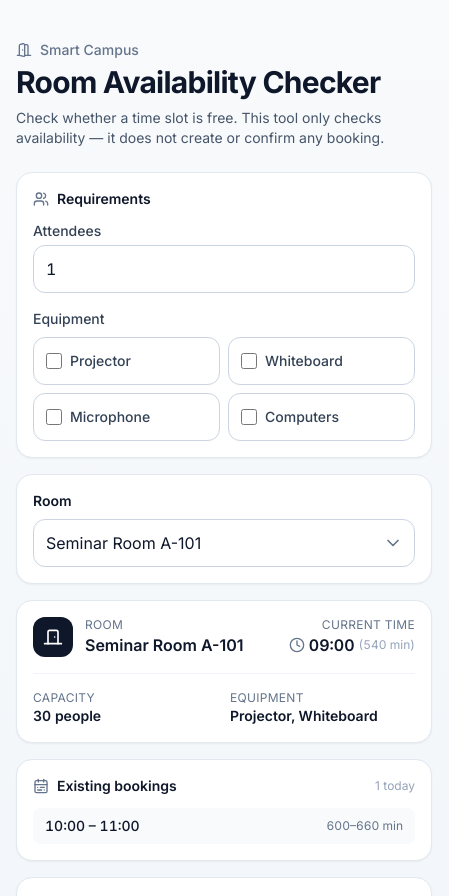
Test: room filtering in the app › shows the empty-state message and disables Check when no room matches (F4)
This screenshot has width=449, height=896.
Replace the text in the number field labelled "Attendees" with "200" at (224, 269), box 33,245 -> 415,293
(page scrolled)
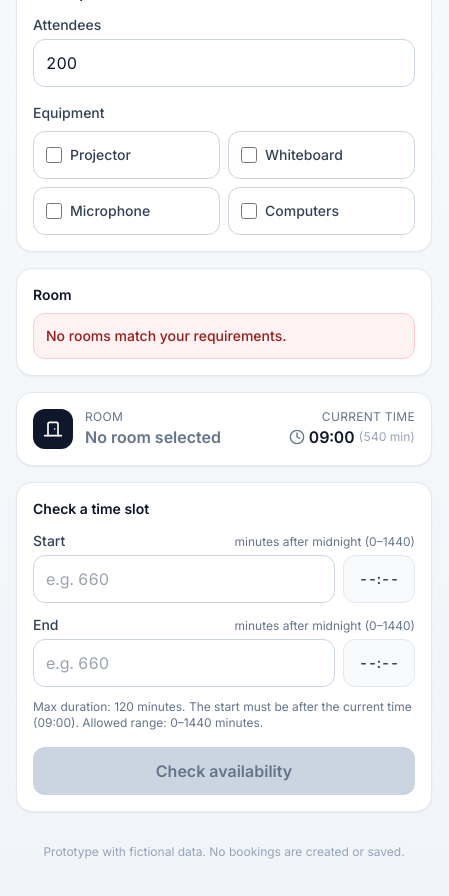
Expected: the message reads "No rooms match your requirements.", 46,327 -> 286,344
Expected: the button "Check availability" is disabled, 33,747 -> 415,795
